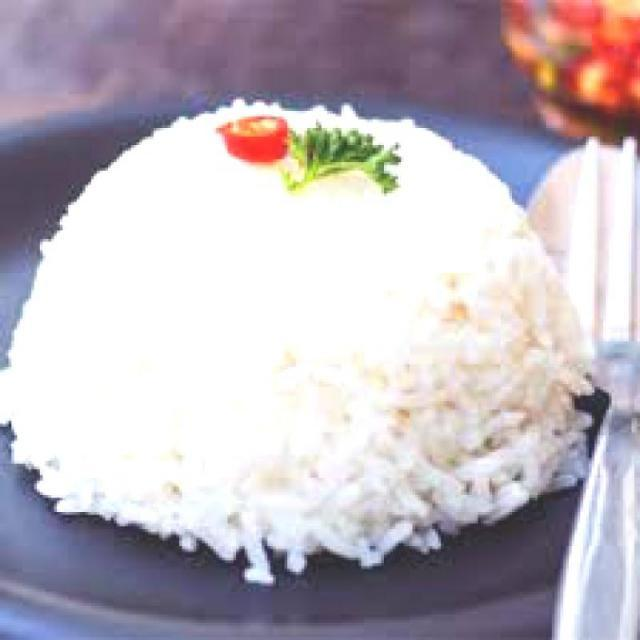Chicken -Chicken Inasal-: (0, 104, 596, 583)
